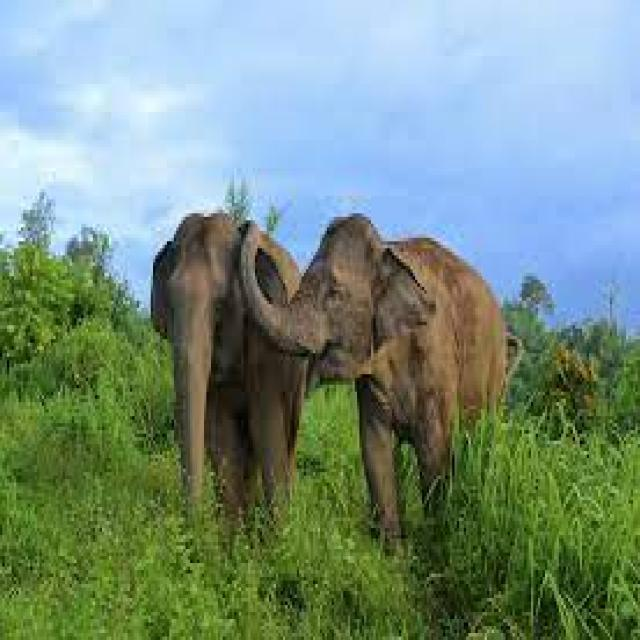Elephant: (234, 210, 522, 559), (148, 206, 308, 549)
